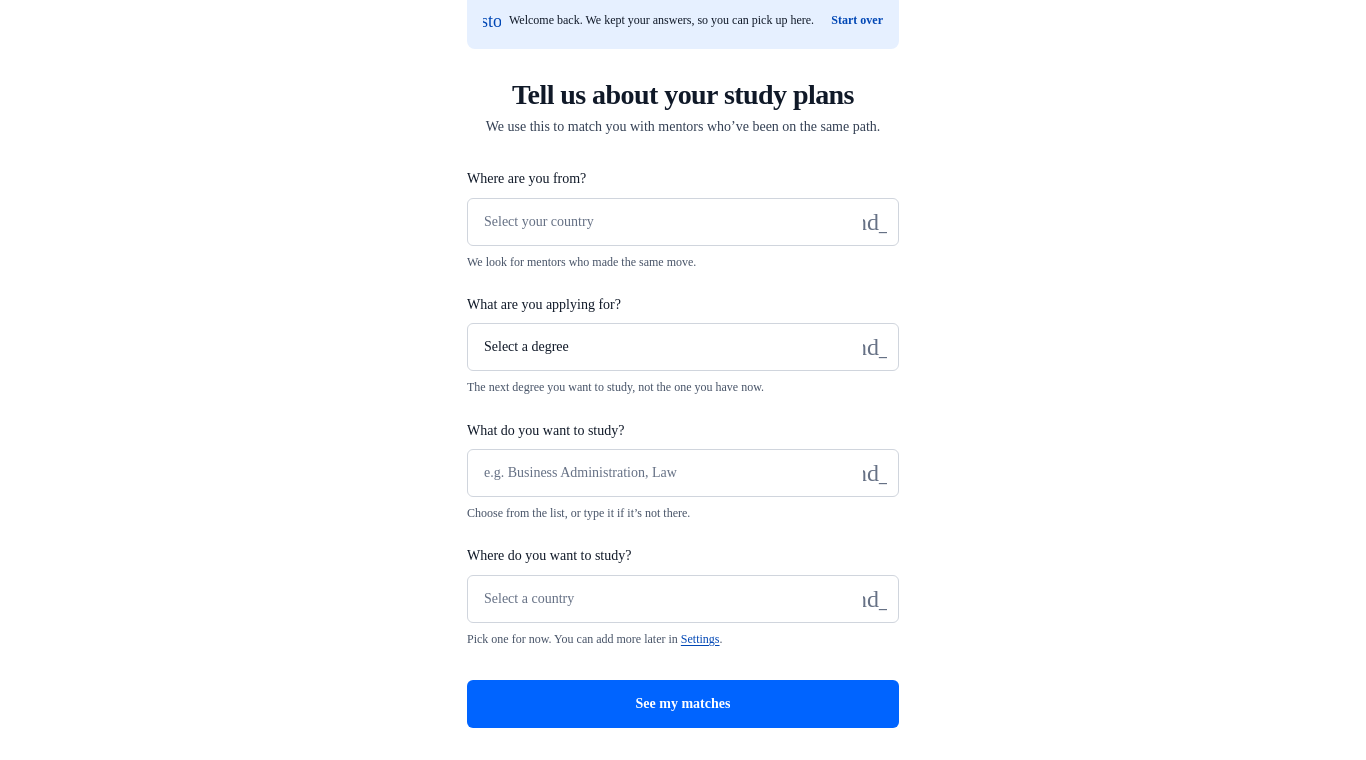
Test: OnboardingScreen › forgets the marks on Back
This screenshot has width=1366, height=760.
(page scrolled)
Click the button "See my matches" at (683, 704), box [467,680,899,728]
(page scrolled)
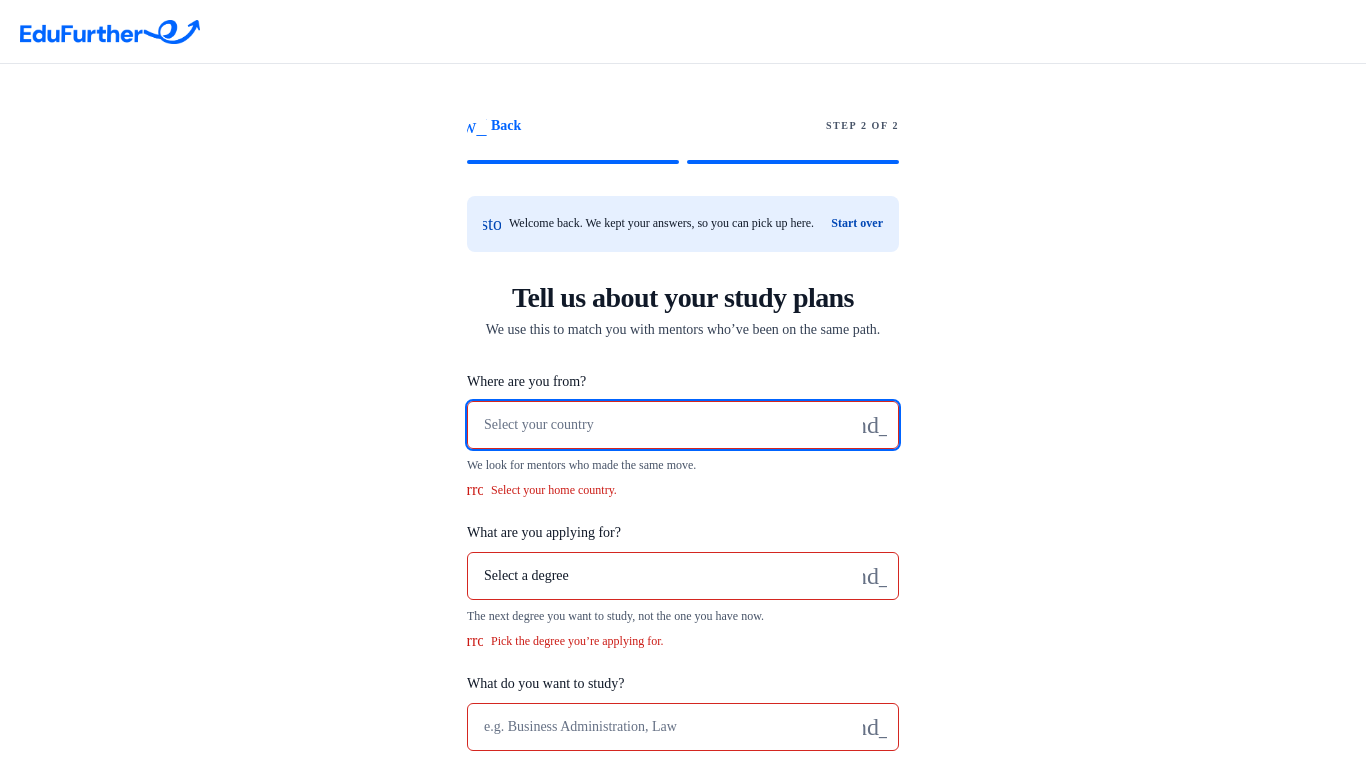
Click the button "arrow_back Back" at (494, 126), box [467,104,521,148]
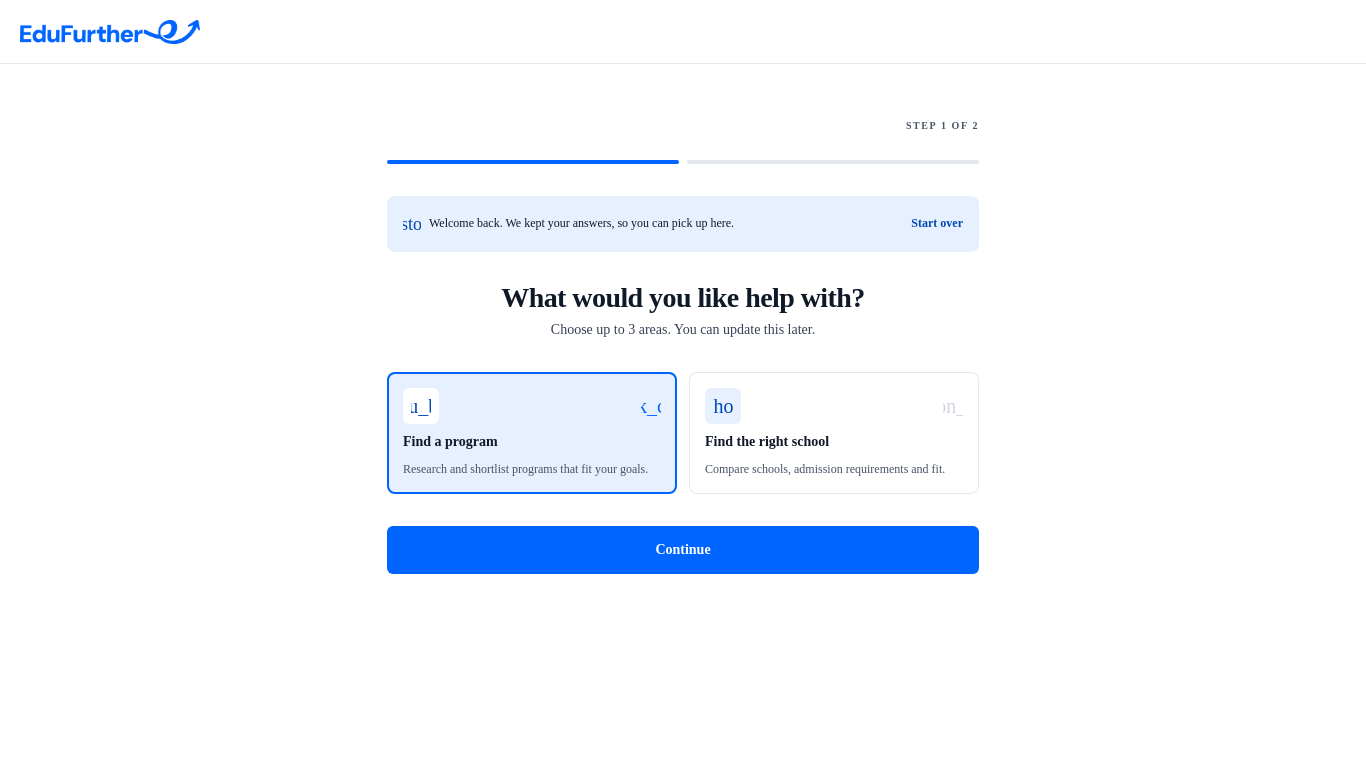
expect the message "error Select your home country." is gone: met
